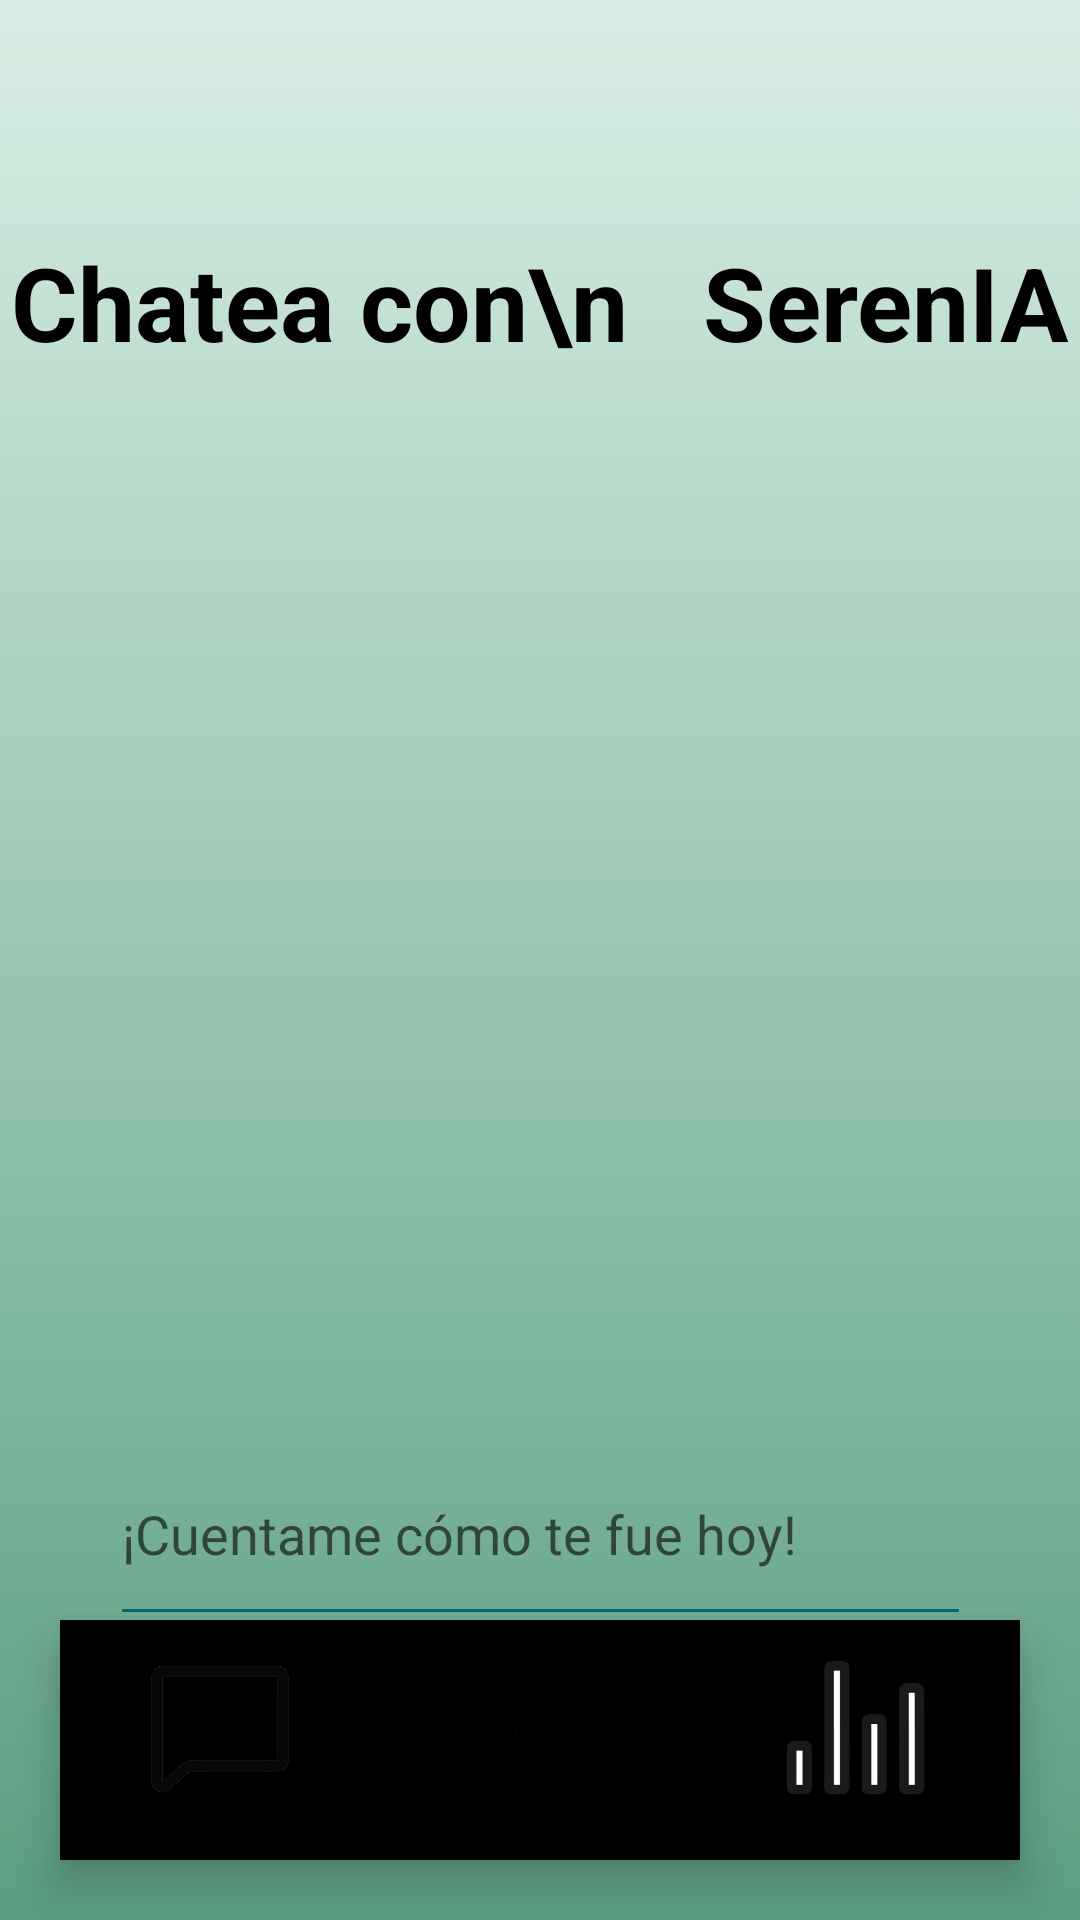

Screen size 1080px×1920px. Icon name, then its box in pixels as (x1, y1, x2, y2):
chat: (152, 1666, 288, 1792)
stats: (787, 1661, 924, 1794)
